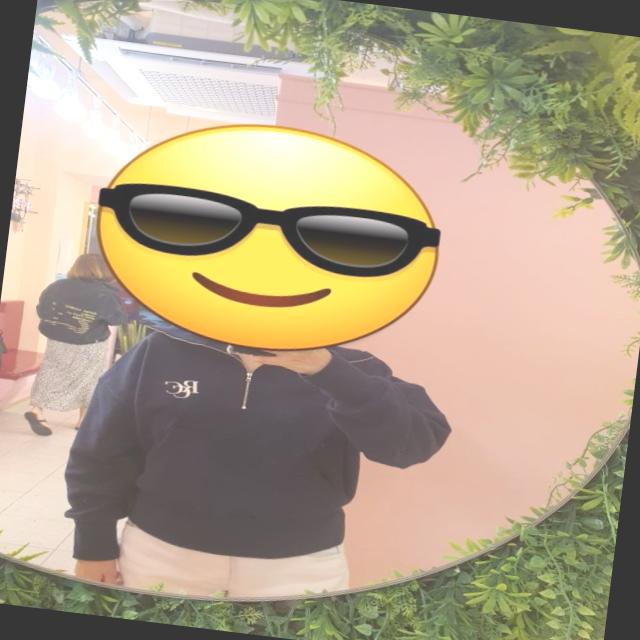mtm: (57, 312, 466, 606)
